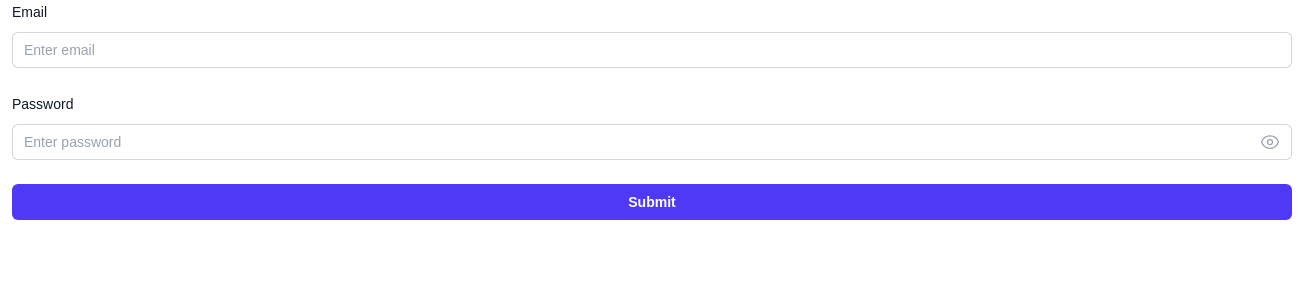
Test case: Form Component › Form Submission › shows validation errors after submission attempt
Click the button "Submit": {"x": 652, "y": 202} [12,184,1292,220]
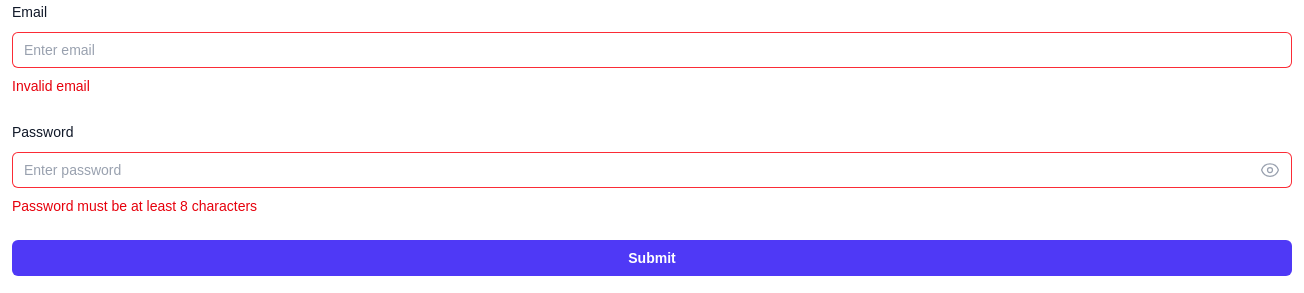
expect the text "Invalid email" is shown: met, box [12,78,90,94]
expect the text "Password must be at least 8 characters" is shown: met, box [12,198,257,214]
